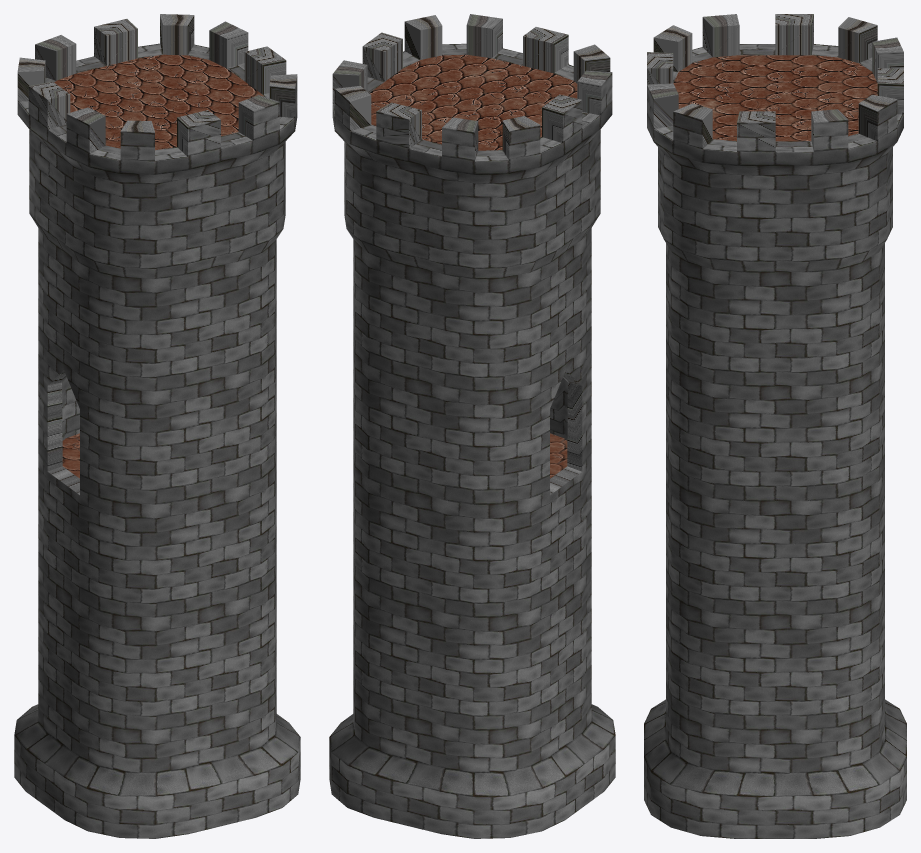
The model's file is CityWallFullTower.fbx.
The picture shows the model from 3 angles, left to right: view 1: azimuth 30°, elevation 25°; view 2: azimuth 150°, elevation 25°; view 3: azimuth 270°, elevation 25°; orthographic projection.
Parts seen in each view (by area): view 1: TowerTopwalls, CityWall_Bottom, CityTower, TowerTopFloor, CityTowerIntFloor; view 2: TowerTopwalls, CityWall_Bottom, CityTower, TowerTopFloor, CityTowerIntFloor; view 3: TowerTopwalls, CityWall_Bottom, CityTower, TowerTopFloor.
Boxes of the visible parts, x1,y1,x2,y2 form: TowerTopwalls: (17, 14, 297, 377); CityWall_Bottom: (14, 552, 300, 838); CityTower: (38, 326, 276, 602); TowerTopFloor: (54, 54, 263, 150); CityTowerIntFloor: (62, 433, 79, 478); TowerTopwalls: (332, 14, 612, 377); CityWall_Bottom: (329, 552, 615, 838); CityTower: (353, 326, 591, 602); TowerTopFloor: (369, 54, 577, 150); CityTowerIntFloor: (550, 433, 567, 478); TowerTopwalls: (647, 14, 903, 371); CityWall_Bottom: (644, 569, 906, 838); CityTower: (666, 340, 884, 600); TowerTopFloor: (673, 55, 877, 141).
Size of the model in its own units: 10.93 by 32.81 by 10.93.
2 materials, 2 textured.
